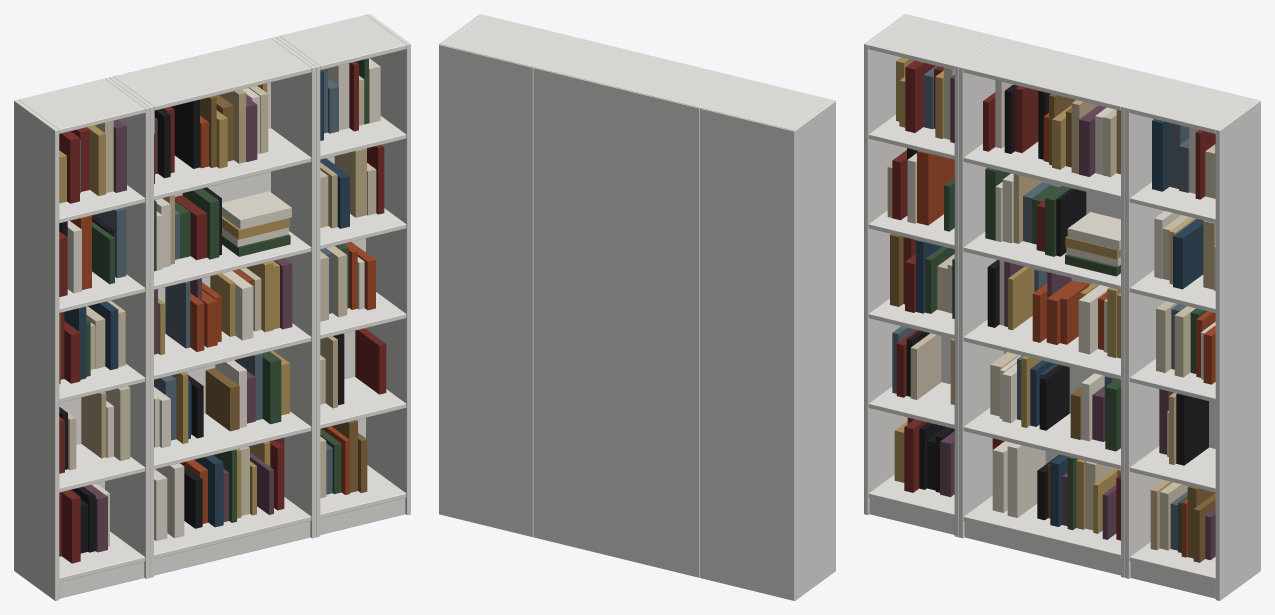
Rendered from bookcase-vu-white.glb.
The picture shows the model from 3 angles, left to right: view 1: azimuth 30°, elevation 25°; view 2: azimuth 150°, elevation 25°; view 3: azimuth 330°, elevation 25°; orthographic projection.
Parts seen in each view (by area): view 1: object 1, decor (×12); view 2: object 1; view 3: object 1, decor (×12).
Boxes of the visible parts, x1,y1,x2,y2 form: object 1: [14, 14, 410, 600]; decor (×12): [59, 58, 386, 563]; object 1: [439, 14, 835, 600]; object 1: [864, 14, 1260, 600]; decor (×12): [887, 57, 1215, 562].
Bounding box in the file's own units: 1.5 × 1.89 × 0.304.
